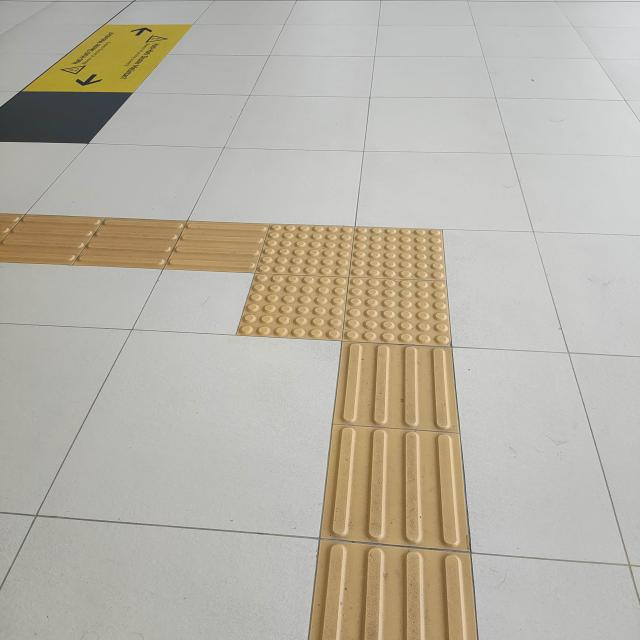kiri: (89, 161, 540, 425)
